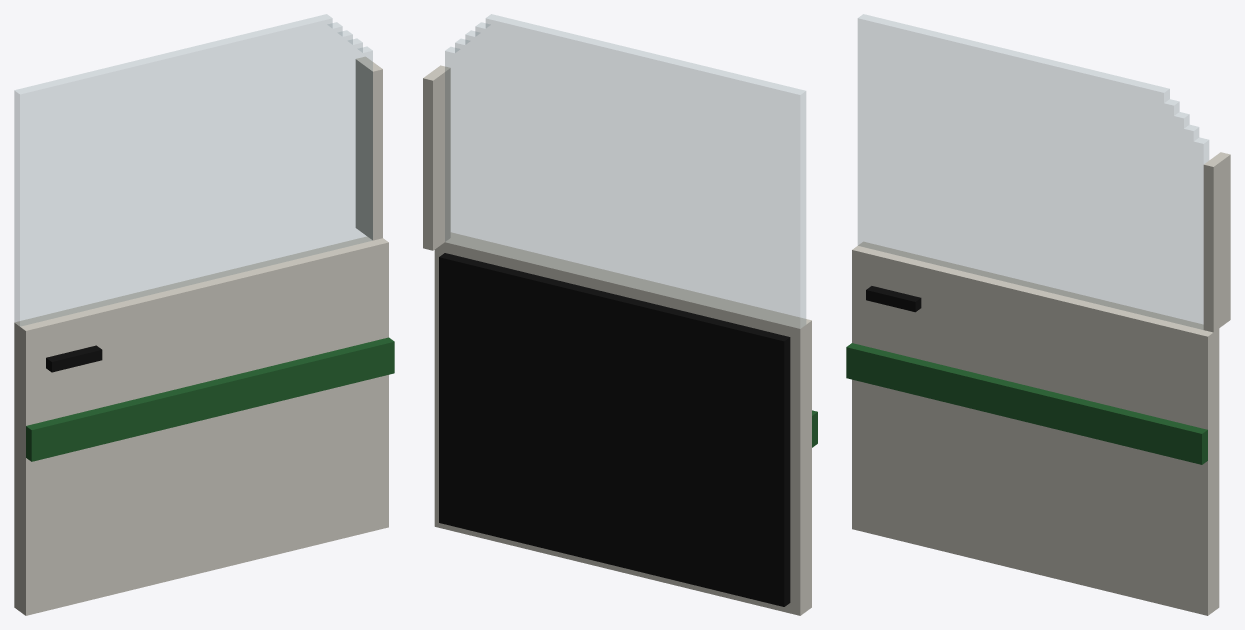
The model's file is minibus_front_door.glb.
3 views of the same model, side by side, from view 1: azimuth 30°, elevation 25°; view 2: azimuth 150°, elevation 25°; view 3: azimuth 330°, elevation 25° (orthographic). The views are drawn at different scales.
Visible parts, largest first — view 1: body:compound; view 2: body:compound; view 3: body:compound.
Part boxes in pixels (bbox=[...]): body:compound: bbox=[14, 14, 394, 615]; body:compound: bbox=[423, 14, 817, 615]; body:compound: bbox=[846, 14, 1230, 615].
Size of the model in its own units: 1.12 by 1.53 by 0.1562.
